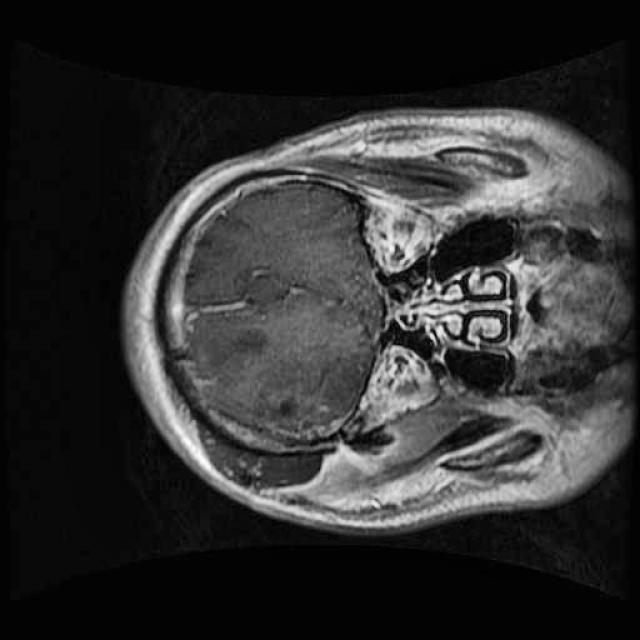Non-Tumor: (234, 362, 366, 458)
